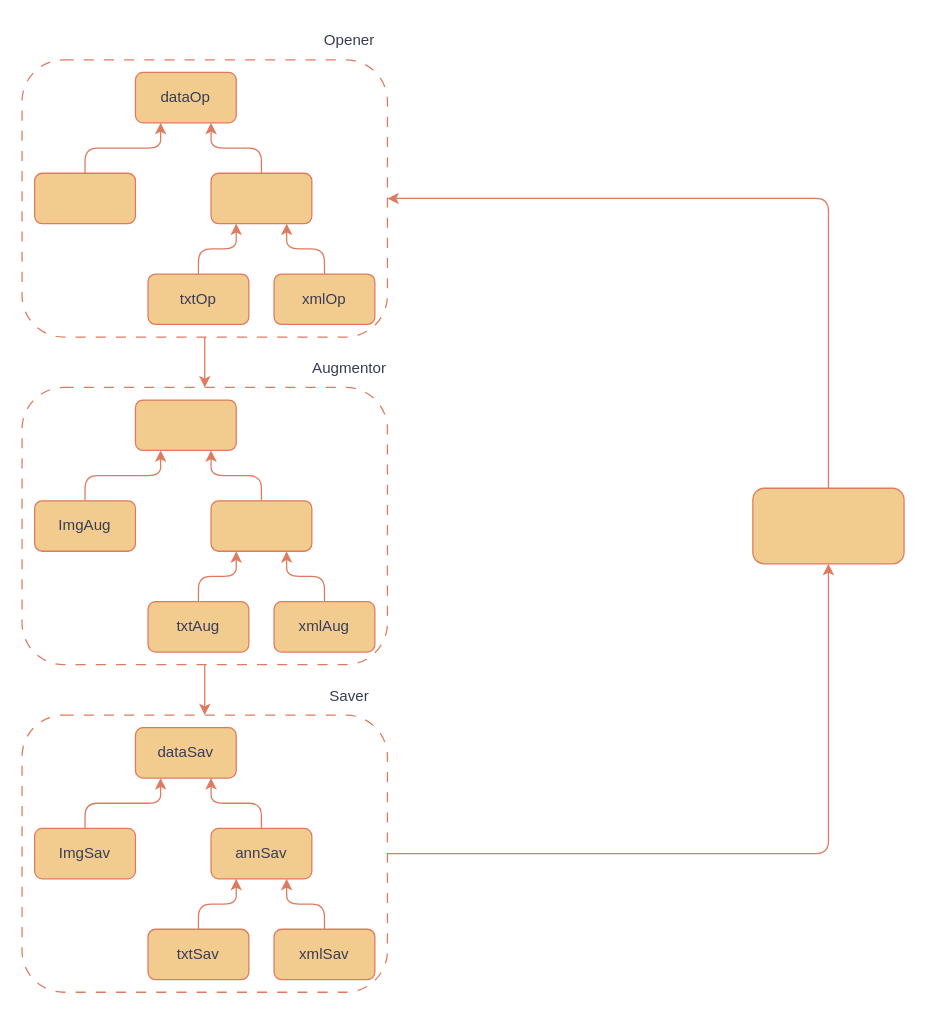
Image size: 926x1014. Some labels were removed from this diagram. Each missing label, with the centre of its shape:
"annAug" goes at point (261, 525).
"annOp" goes at point (261, 198).
"dataAug" goes at point (185, 424).
"Factory" goes at point (828, 525).
"ImgOp" goes at point (84, 198).
